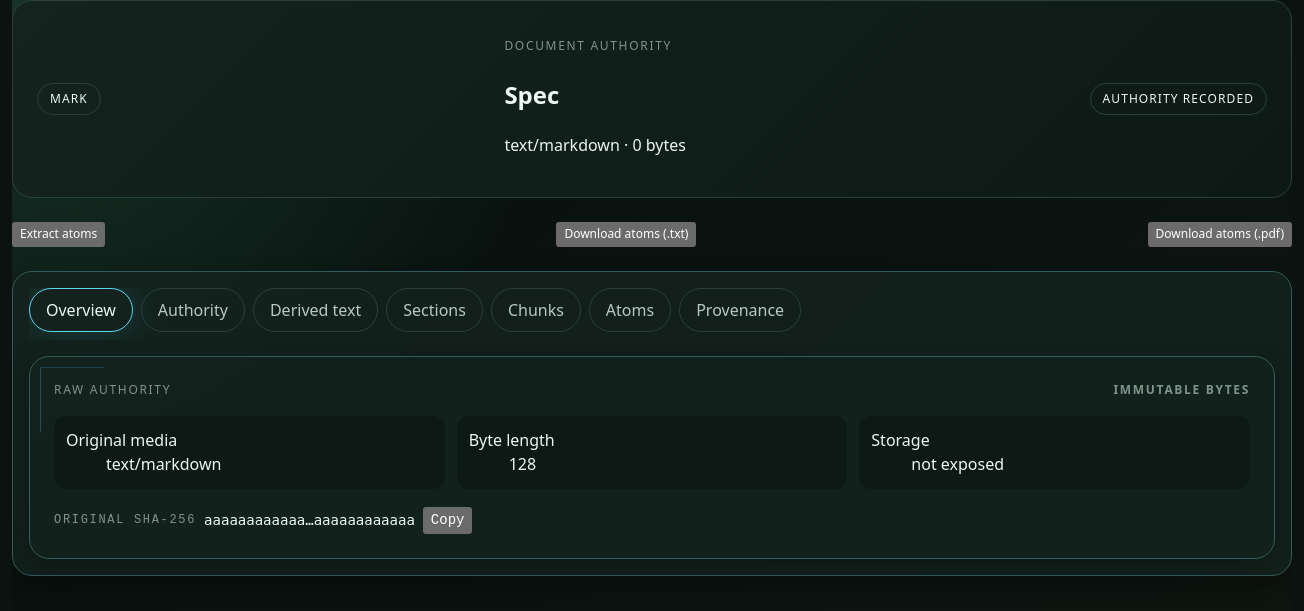
Test: source workspace › surfaces a visible error instead of doing nothing when the extraction poll fails
The width and height of the screenshot is (1304, 611).
Expected: the heading "Spec" is shown, [504, 78, 559, 110]
Click the button "Extract atoms".
click(59, 235)  # box [12, 222, 105, 247]
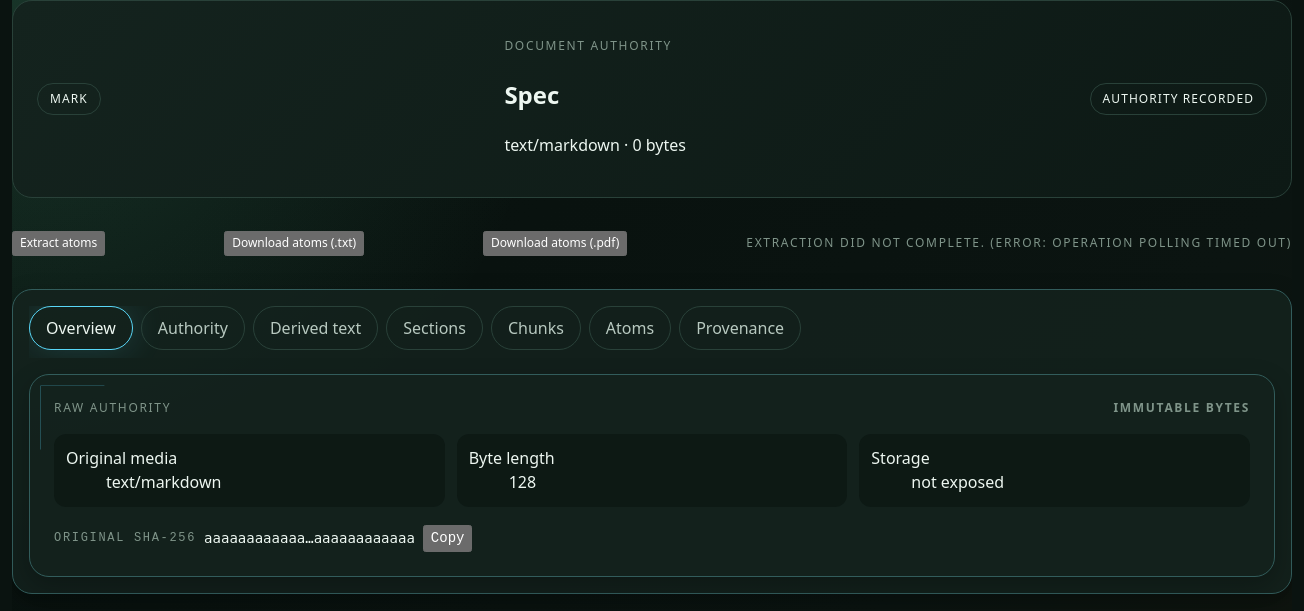
Result: the message shows "Extraction did not complete." at [746, 234, 1292, 251]
